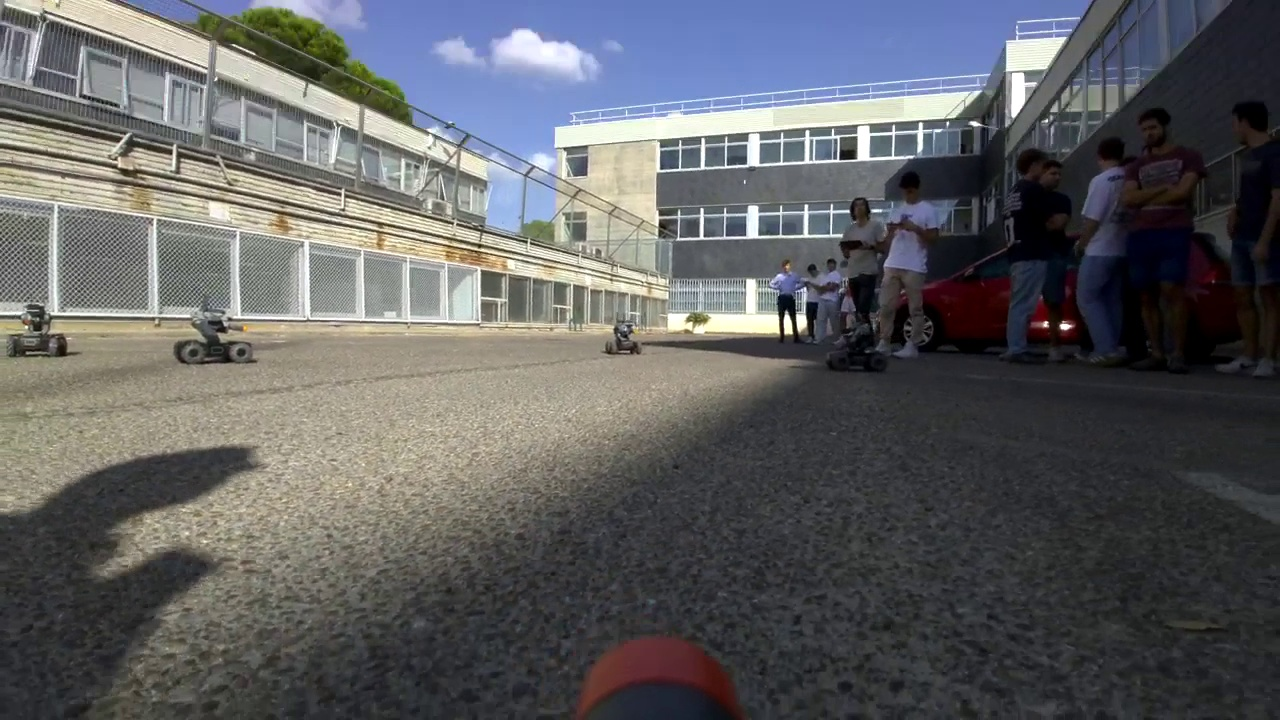robot: (175, 297, 254, 367), (820, 318, 889, 374), (12, 300, 72, 358), (604, 316, 642, 356)
